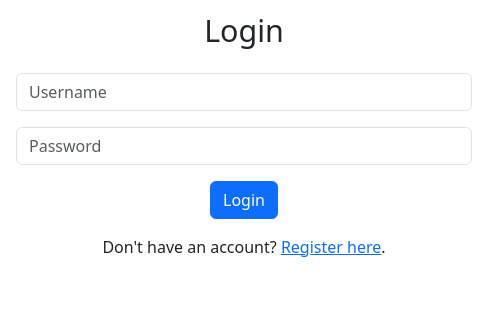
it: Login Component › should display error message on login failure
Type "wronguser" into the field with test id "username-input".
click(244, 92); type("wronguser")  # box [16,72,472,110]
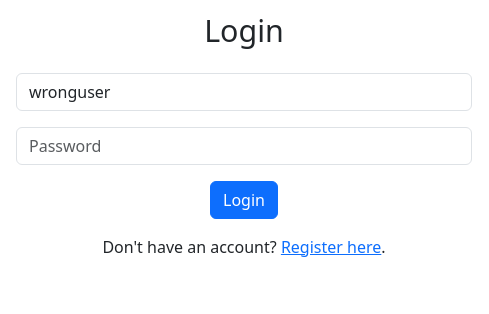
Type "wrongpassword" into the password field with test id "password-input".
click(244, 146); type("wrongpassword")  # box [16,126,472,164]
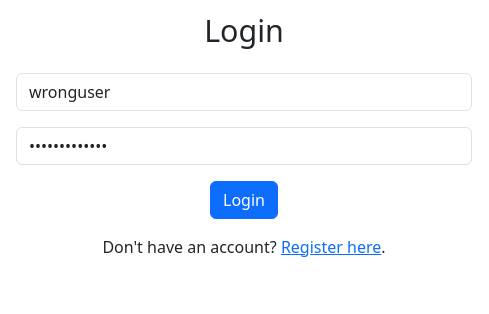
Click the button "Login".
click(244, 200)  # box [210,180,278,218]
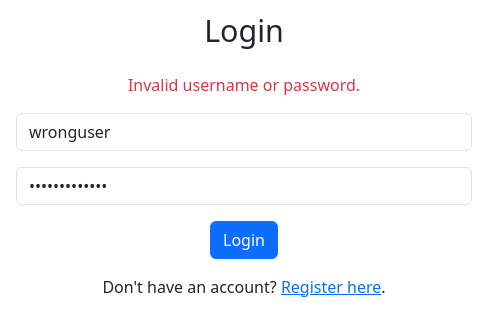
Now the text "Invalid username or password." is shown, box [128,74,360,96]
